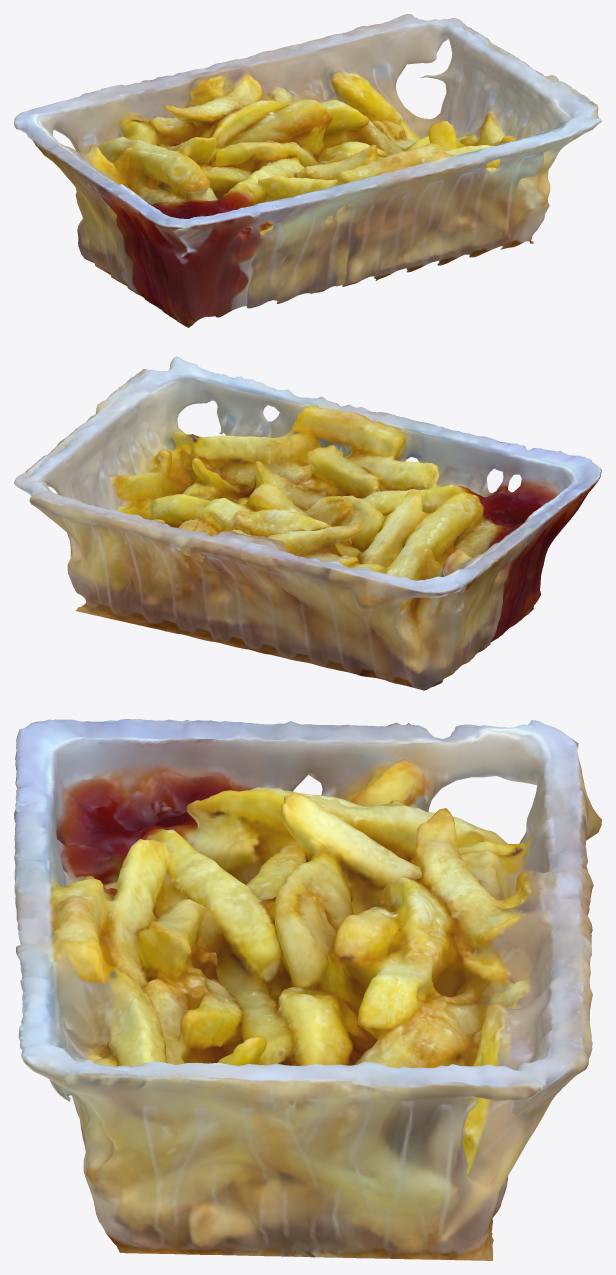
The model's file is frenchFries03_1.glb.
3 views of the same model, one above another, from view 1: azimuth 30°, elevation 25°; view 2: azimuth 150°, elevation 25°; view 3: azimuth 270°, elevation 25° (orthographic). The views are drawn at different scales.
Visible parts, largest first — view 1: Object_2; view 2: Object_2; view 3: Object_2.
Boxes of the visible parts, x1,y1,x2,y2 form: Object_2: (14, 14, 601, 327); Object_2: (14, 356, 601, 690); Object_2: (14, 719, 601, 1260).
Size of the model in its own units: 3.47 by 1.05 by 2.34.
1 material, 1 textured.
